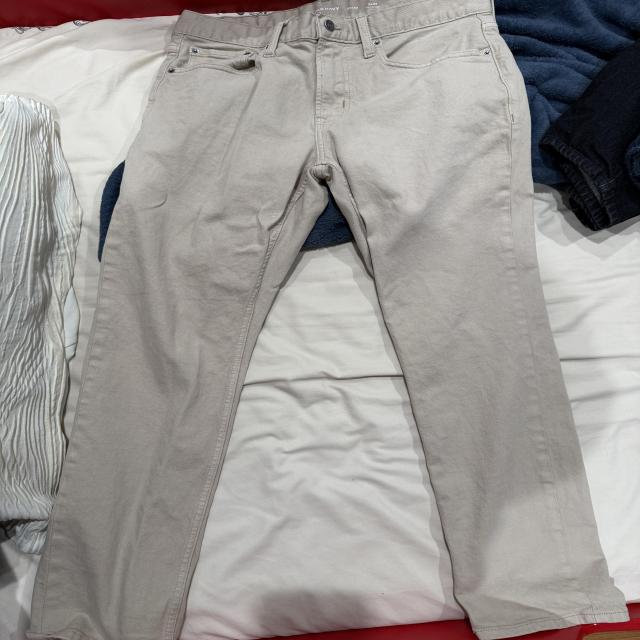back_tag: (311, 2, 388, 15)
